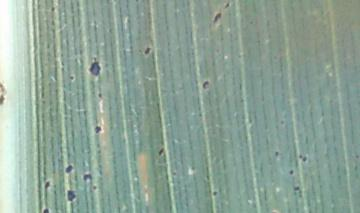tarspot: (87, 56, 102, 77), (1, 79, 8, 106), (211, 11, 223, 26), (65, 188, 77, 202), (82, 172, 93, 182), (143, 46, 152, 57), (201, 80, 210, 90), (93, 125, 102, 135), (64, 164, 73, 174), (223, 2, 231, 11), (44, 180, 52, 189), (49, 5, 57, 13), (157, 147, 164, 156), (68, 74, 75, 82), (42, 206, 50, 213), (96, 91, 103, 99), (292, 185, 300, 192), (273, 150, 280, 158), (301, 155, 308, 163), (211, 190, 218, 197), (288, 169, 295, 176), (248, 19, 255, 26), (91, 184, 97, 191), (354, 153, 360, 160), (278, 119, 284, 125), (297, 153, 302, 159)
